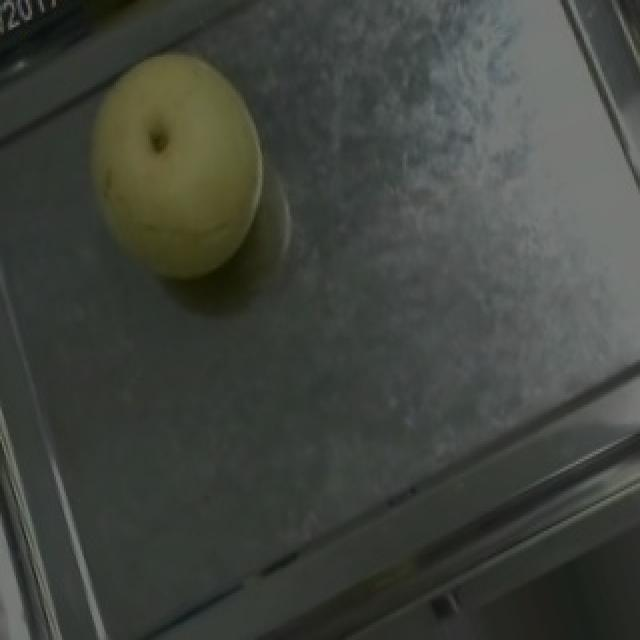Fruit: (42, 10, 306, 317)
